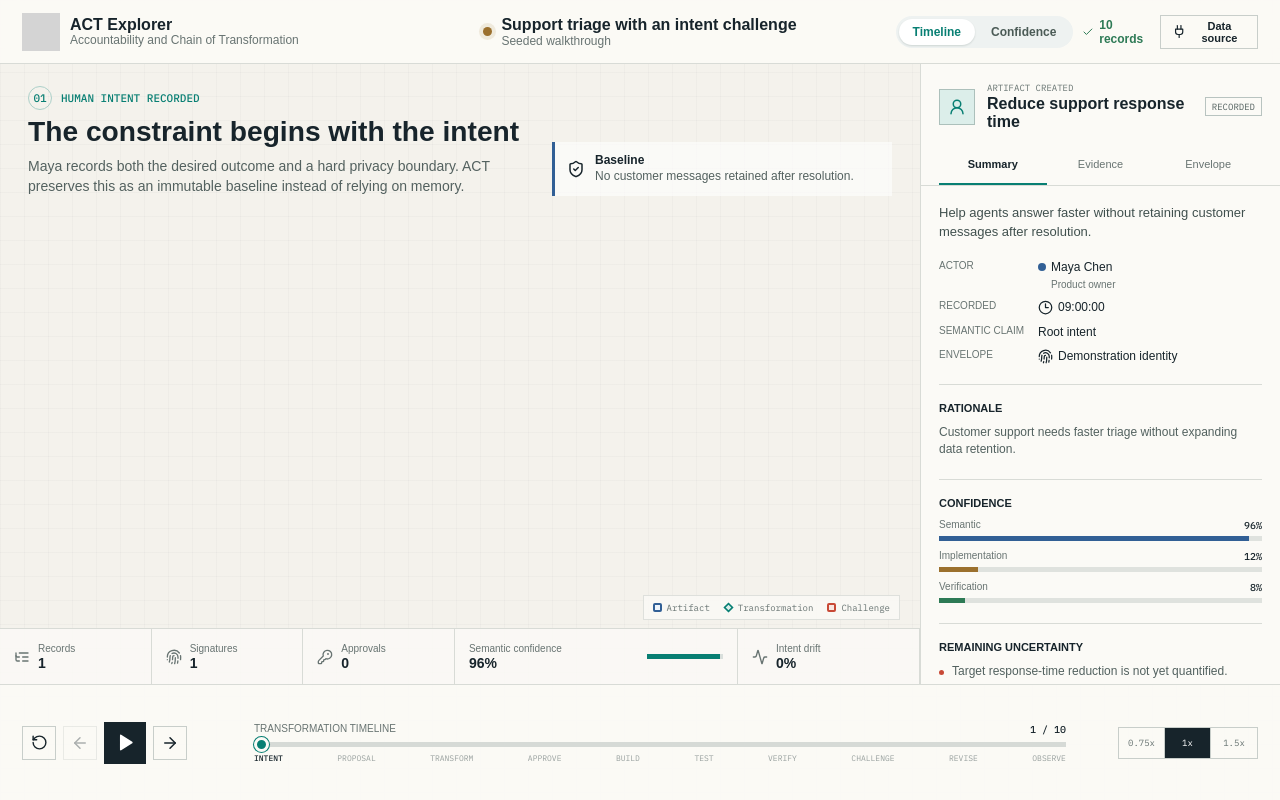
Test: ACT Explorer demonstration › opens the source dialog and returns to the deterministic demonstration
Click the button "Data source": {"x": 1209, "y": 32} [1160, 14, 1258, 48]
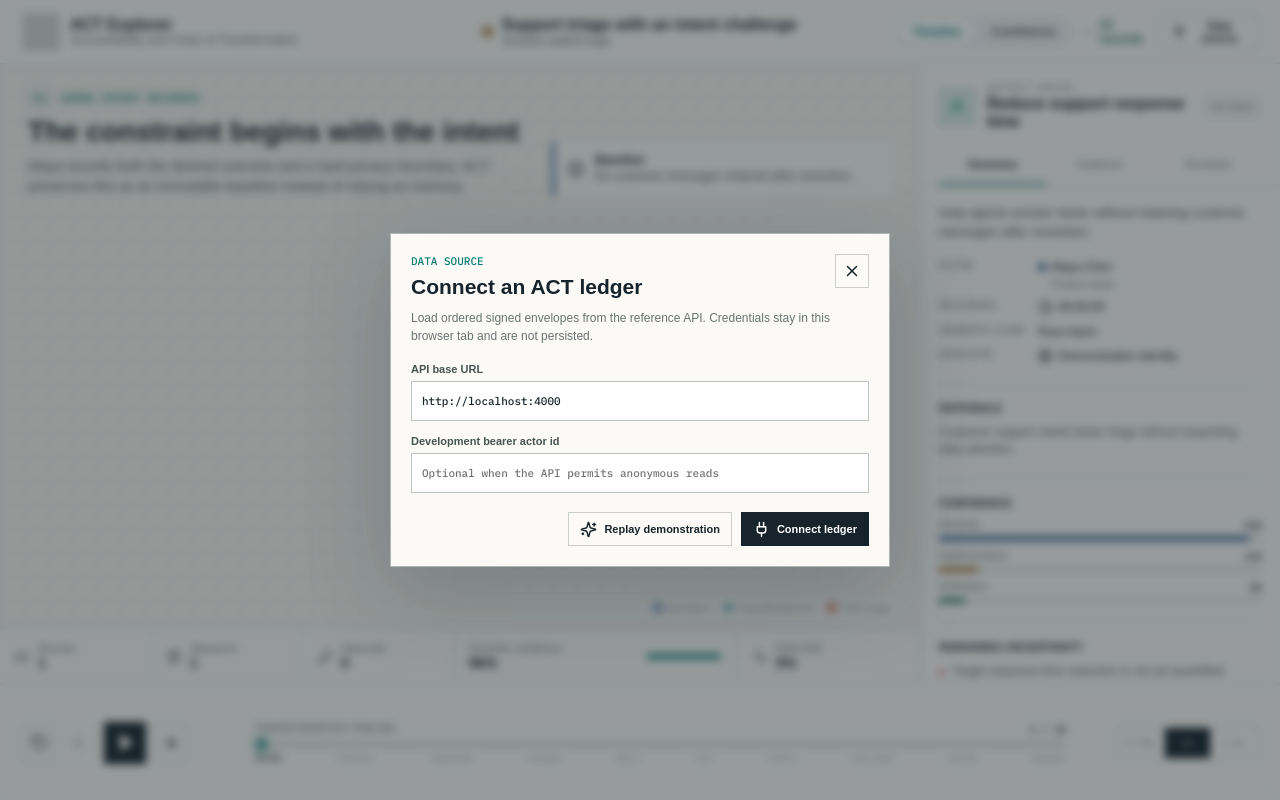
Check: the dialog "Connect an ACT ledger" is shown, box [390, 233, 890, 567]
Check: the field labelled "API base URL" holds "http://localhost:4000", box [411, 381, 869, 421]
Click the button "Replay demonstration": {"x": 650, "y": 529} [568, 512, 732, 546]
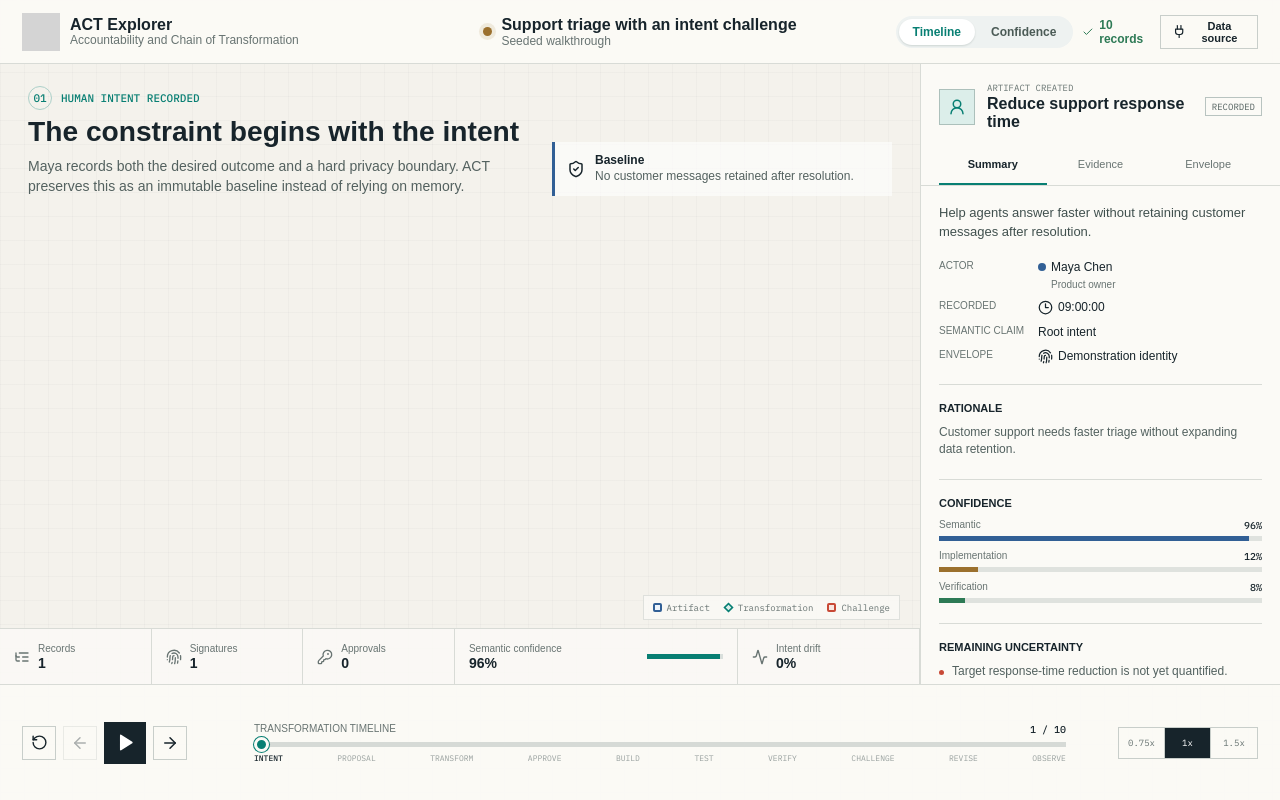
Check: the dialog is gone
